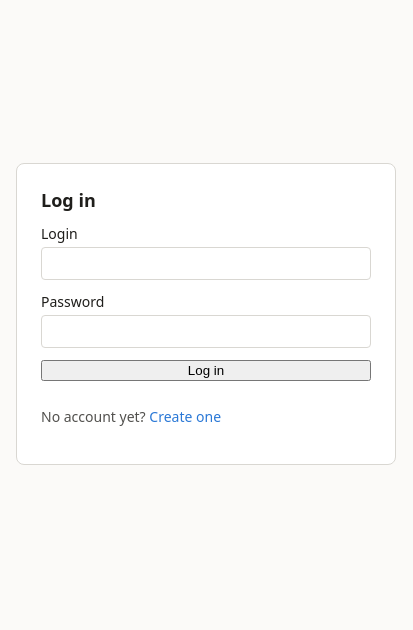
Test: Create an account › refuses an email as a login and sends nothing
The width and height of the screenshot is (413, 630).
Click the button "Create one" at [185, 416], box left=149, top=407, right=221, bottom=426
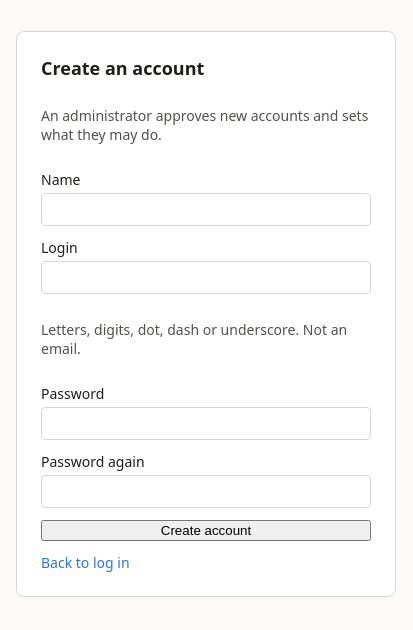
Type "Kim Lee" into the field labelled "Name" at [206, 210], box left=41, top=193, right=371, bottom=226
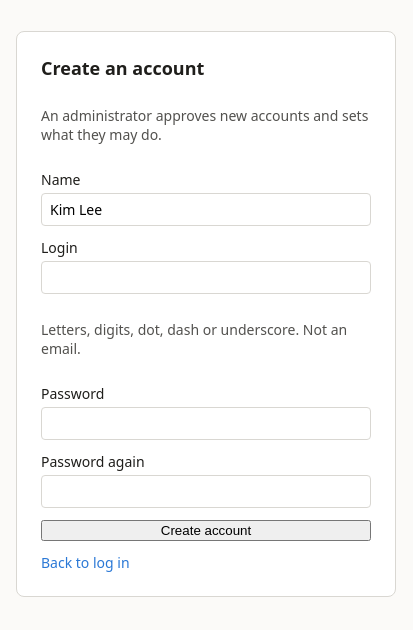
Type "kim@example.test" into the field labelled "Login" at [206, 278], box left=41, top=261, right=371, bottom=294
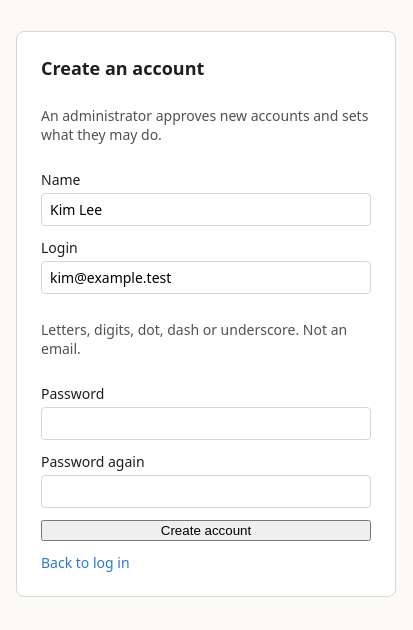
Type "kim-pass-12" into the password field labelled "Password" at [206, 424], box left=41, top=407, right=371, bottom=440
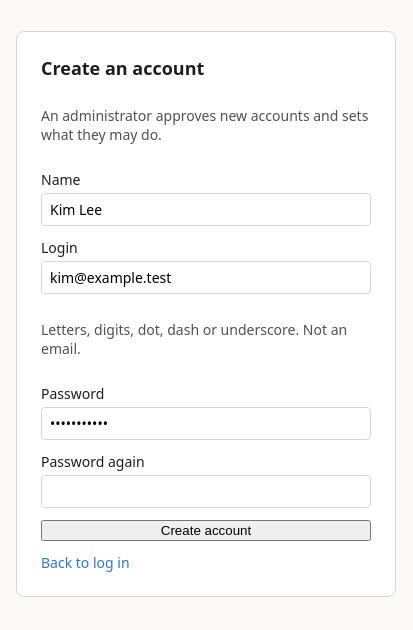
Type "kim-pass-12" into the password field labelled "Password again" at [206, 492], box left=41, top=475, right=371, bottom=508
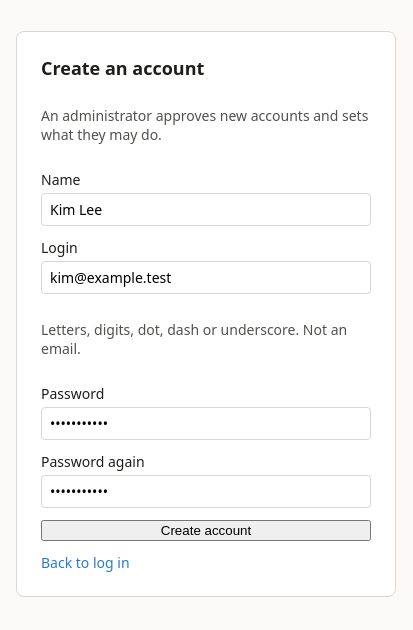
Click the button "Create account" at [206, 530], box left=41, top=520, right=371, bottom=541
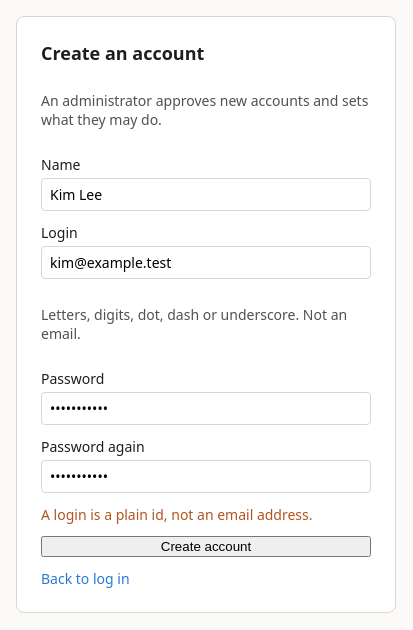
Expected: the message reads "A login is a plain id, not an email address.", left=41, top=504, right=312, bottom=524
